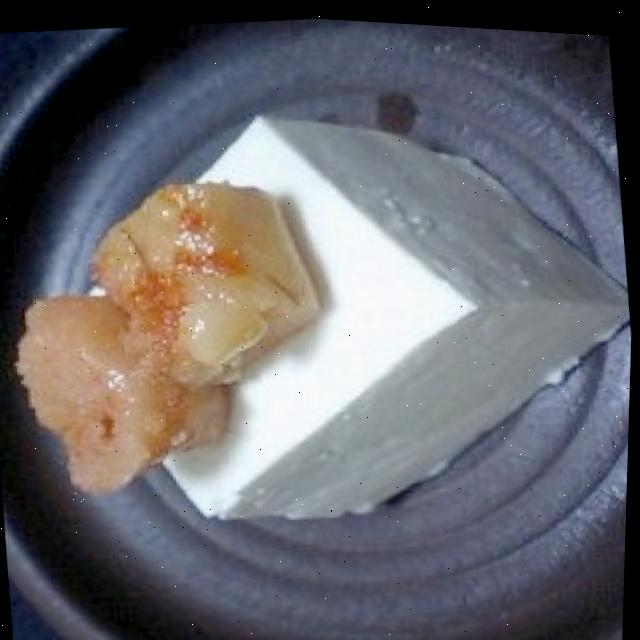豆腐料理: (0, 49, 639, 558)
